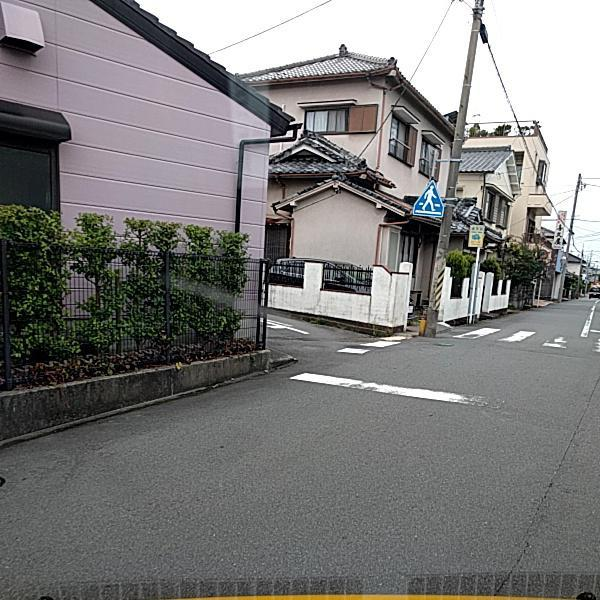D43: (466, 318, 599, 357)
